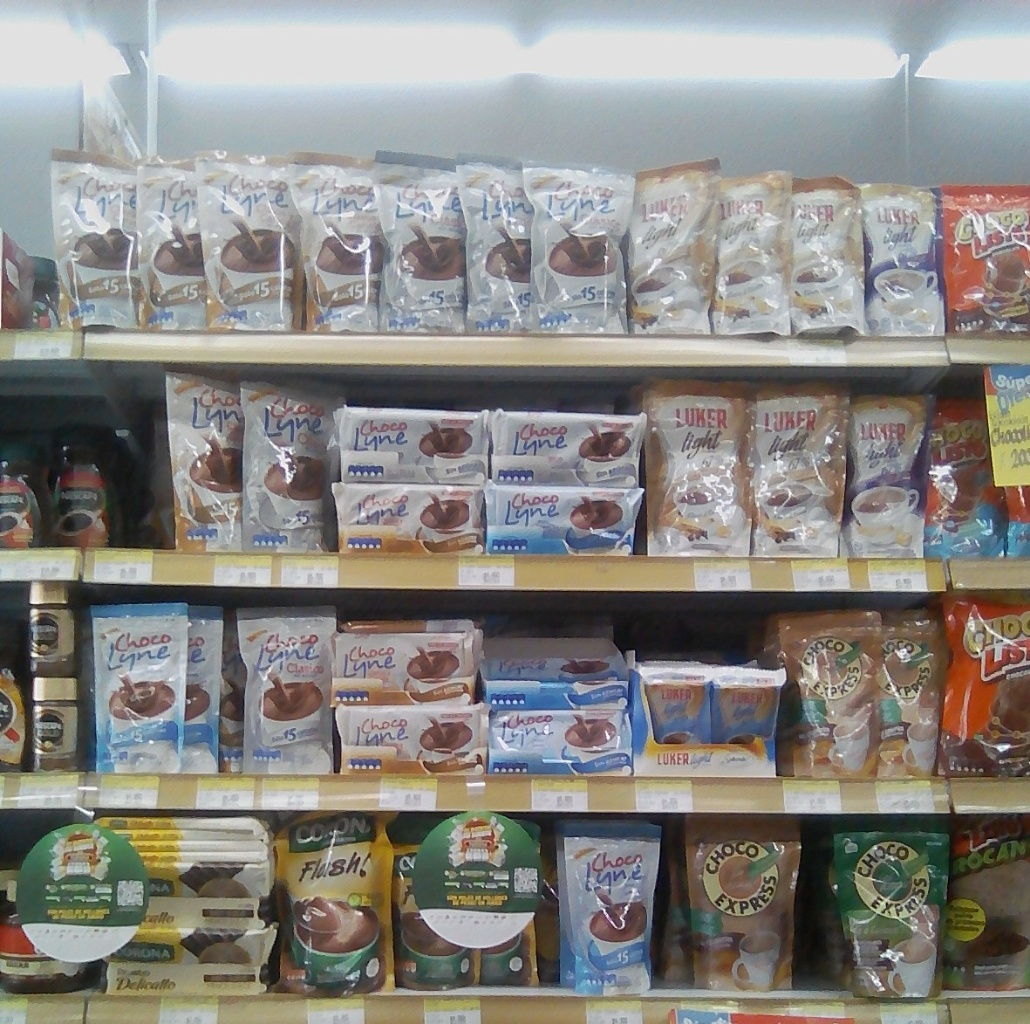COL0170104DYP20000: (926, 387, 1012, 559)
